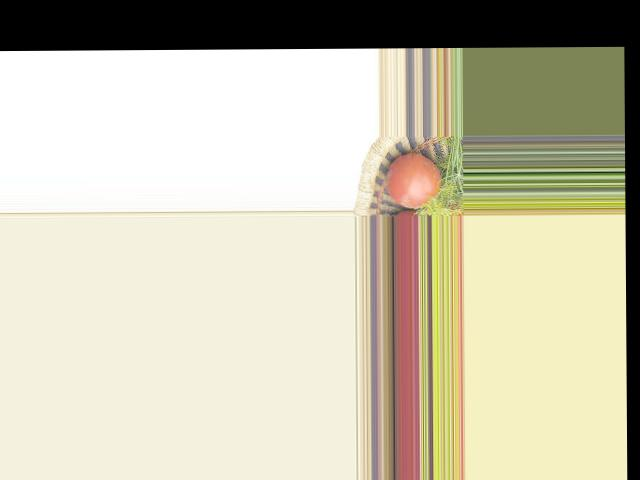tomato: (386, 153, 442, 208)
